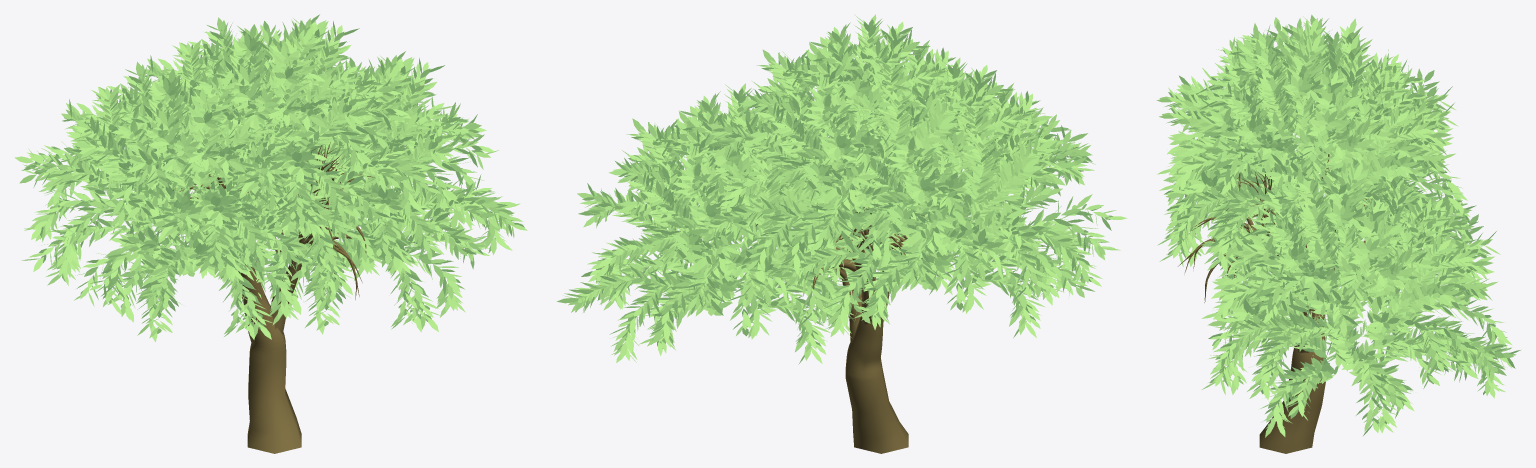
The model's file is tree.fbx.
3 views of the same model, side by side, from view 1: azimuth 30°, elevation 25°; view 2: azimuth 150°, elevation 25°; view 3: azimuth 270°, elevation 25° (orthographic). The views are drawn at different scales.
Parts seen in each view (by area): view 1: leaves.003; view 2: leaves.003; view 3: leaves.003.
Boxes of the visible parts, x1=… form: leaves.003: x1=14, y1=14, x2=527, y2=453; leaves.003: x1=557, y1=14, x2=1127, y2=453; leaves.003: x1=1156, y1=14, x2=1520, y2=453.
Bounding box in the file's own units: 1810 × 1508 × 1244.
